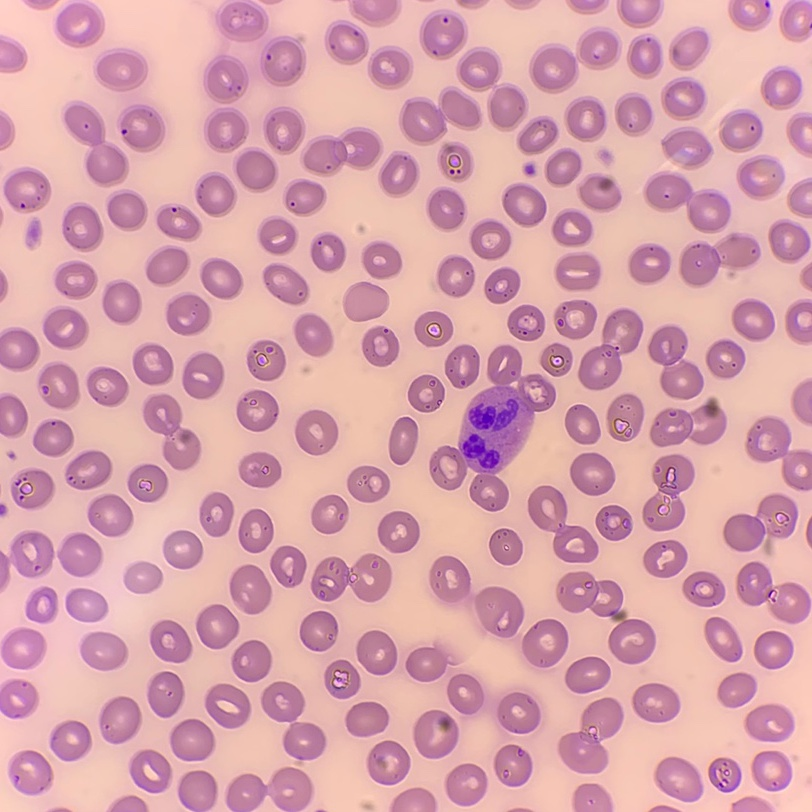RBC: (429, 345, 555, 510), (203, 0, 305, 103), (556, 572, 655, 663), (430, 556, 523, 637), (94, 48, 164, 151), (457, 47, 526, 130), (63, 100, 128, 186), (447, 674, 540, 733), (528, 486, 597, 562), (645, 172, 730, 232), (579, 309, 642, 389), (261, 682, 326, 759), (558, 698, 623, 773), (399, 87, 481, 145), (746, 417, 811, 490), (736, 562, 810, 623), (724, 494, 797, 554), (143, 394, 200, 469), (680, 233, 760, 286), (649, 325, 703, 399), (301, 127, 381, 175), (643, 454, 693, 530), (226, 767, 312, 811), (311, 554, 391, 601), (650, 398, 726, 446), (0, 531, 53, 588), (55, 0, 104, 47), (530, 44, 577, 92), (420, 10, 466, 59), (522, 619, 567, 667), (413, 710, 458, 758), (655, 757, 702, 801), (662, 127, 712, 168), (737, 155, 783, 199), (4, 168, 50, 212), (204, 107, 248, 152), (8, 750, 52, 795), (263, 106, 304, 154), (62, 203, 103, 251), (230, 565, 271, 613), (234, 147, 277, 192), (205, 684, 250, 727), (99, 697, 141, 743), (182, 352, 223, 399), (58, 533, 102, 576), (263, 263, 309, 304), (744, 704, 794, 741), (502, 183, 545, 226), (368, 46, 412, 88), (662, 77, 706, 119), (295, 410, 337, 454), (570, 453, 614, 495), (88, 494, 132, 536), (38, 362, 78, 408), (325, 21, 368, 63), (196, 605, 238, 648), (367, 741, 409, 784), (565, 97, 606, 141), (195, 172, 236, 216), (166, 293, 210, 334), (43, 307, 87, 348), (170, 719, 214, 760), (66, 450, 112, 489), (633, 683, 679, 722), (720, 109, 762, 151), (129, 750, 171, 792), (761, 66, 802, 109), (1, 628, 45, 668), (379, 151, 418, 196), (81, 632, 127, 670), (579, 27, 620, 69), (769, 220, 810, 262), (732, 299, 774, 340), (236, 390, 278, 431), (150, 620, 191, 662), (49, 720, 91, 761), (146, 246, 189, 286), (11, 469, 54, 509), (356, 631, 396, 674), (344, 282, 388, 321), (406, 645, 453, 681), (378, 511, 419, 552), (445, 764, 486, 805), (294, 313, 333, 356), (103, 280, 141, 324), (147, 672, 184, 717), (607, 394, 643, 440), (201, 258, 242, 298), (670, 28, 709, 70), (0, 328, 39, 370), (133, 343, 172, 385), (556, 253, 600, 290), (705, 617, 742, 661), (565, 657, 610, 693), (107, 190, 147, 230), (470, 219, 510, 259), (629, 244, 670, 283), (87, 367, 128, 406), (232, 640, 271, 681), (615, 93, 653, 135), (427, 188, 465, 230), (643, 540, 686, 577), (156, 204, 200, 240), (752, 751, 791, 791), (178, 771, 217, 811), (554, 300, 595, 338), (494, 745, 532, 786), (517, 116, 557, 154), (247, 340, 285, 380), (579, 174, 620, 211), (55, 261, 96, 298), (283, 179, 325, 215), (347, 466, 389, 502), (627, 34, 662, 77), (258, 216, 297, 254), (706, 339, 744, 378), (754, 631, 793, 669), (0, 679, 38, 718), (552, 209, 592, 246), (437, 256, 474, 296), (33, 419, 73, 456), (239, 452, 281, 487), (239, 509, 273, 552), (200, 492, 233, 536), (362, 241, 401, 278), (128, 464, 167, 501), (300, 611, 337, 650), (445, 345, 479, 387), (346, 702, 388, 736), (311, 495, 348, 533), (164, 531, 202, 568), (717, 672, 757, 707), (683, 572, 724, 606), (545, 148, 581, 186), (362, 327, 398, 365), (324, 660, 360, 698), (271, 546, 305, 586), (66, 588, 107, 621), (438, 142, 472, 181), (408, 375, 444, 411), (311, 233, 345, 271), (565, 405, 599, 443), (351, 0, 400, 26), (508, 305, 544, 340), (389, 418, 417, 463), (596, 505, 632, 540), (415, 312, 452, 346), (780, 0, 811, 40), (729, 0, 770, 30), (617, 0, 662, 27), (485, 268, 519, 303), (0, 394, 27, 437), (125, 562, 162, 593), (490, 529, 522, 564), (26, 587, 57, 622), (390, 788, 436, 811), (709, 758, 741, 791), (573, 784, 612, 811), (786, 300, 811, 342), (787, 113, 811, 155), (0, 36, 26, 72), (541, 344, 571, 375), (788, 178, 811, 217), (793, 380, 811, 423), (732, 796, 773, 811), (109, 796, 147, 811), (0, 113, 14, 149), (571, 0, 607, 13), (26, 220, 41, 244), (26, 0, 54, 9), (801, 265, 811, 288), (459, 0, 483, 7), (524, 162, 536, 175), (0, 275, 7, 297), (510, 0, 529, 7), (599, 150, 611, 161), (654, 806, 672, 811), (0, 503, 6, 516), (807, 524, 811, 541)
